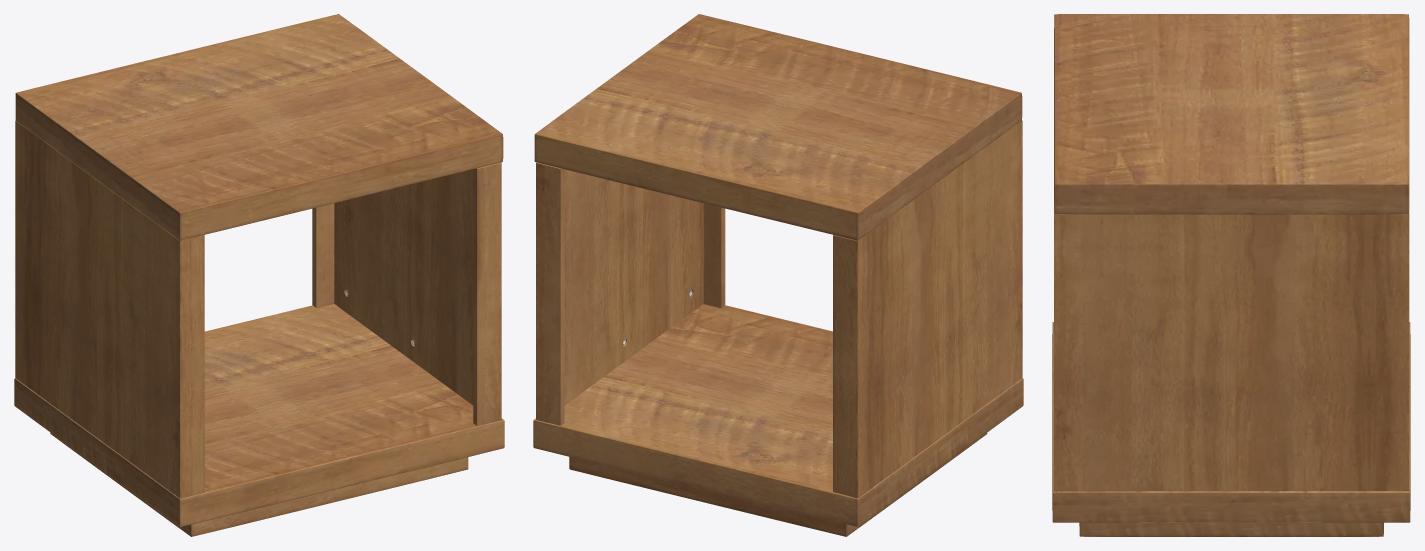
The model's file is abo-B075Z1VKKX.glb.
3 renders of one model, left to right at view 1: azimuth 30°, elevation 25°; view 2: azimuth 150°, elevation 25°; view 3: azimuth 270°, elevation 25°, orthographic. The views are drawn at different scales.
Bounding box in the file's own units: 0.493 × 0.491 × 0.436.
Materials: 1 (1 with a texture image).
